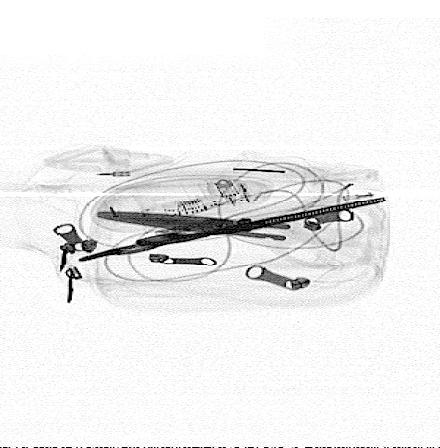Scissors: (69, 193, 393, 267), (93, 197, 388, 271)
